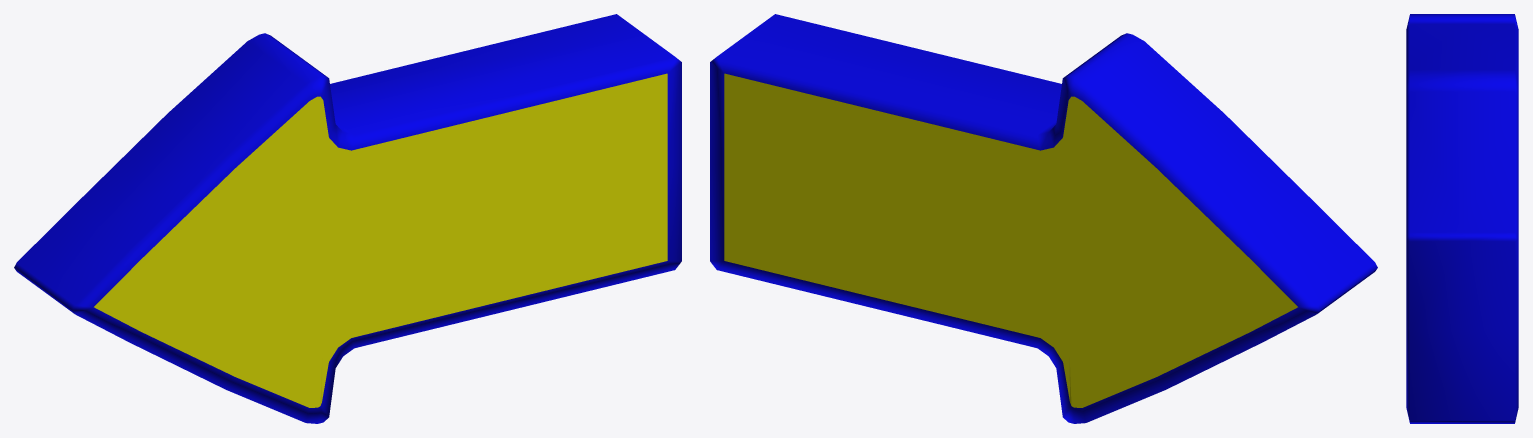
Rendered from StrollerArrow.fbx.
3 views of the same model, side by side, from view 1: azimuth 30°, elevation 25°; view 2: azimuth 150°, elevation 25°; view 3: azimuth 270°, elevation 25° (orthographic). The views are drawn at different scales.
Visible parts, largest first — view 1: Stroller_Arrow2; view 2: Stroller_Arrow2; view 3: Stroller_Arrow2.
Part boxes in pixels (bbox=[...]): Stroller_Arrow2: bbox=[14, 14, 681, 423]; Stroller_Arrow2: bbox=[710, 14, 1377, 423]; Stroller_Arrow2: bbox=[1406, 14, 1518, 423].
Size of the model in its own units: 42.63 by 23.17 by 7.56.
